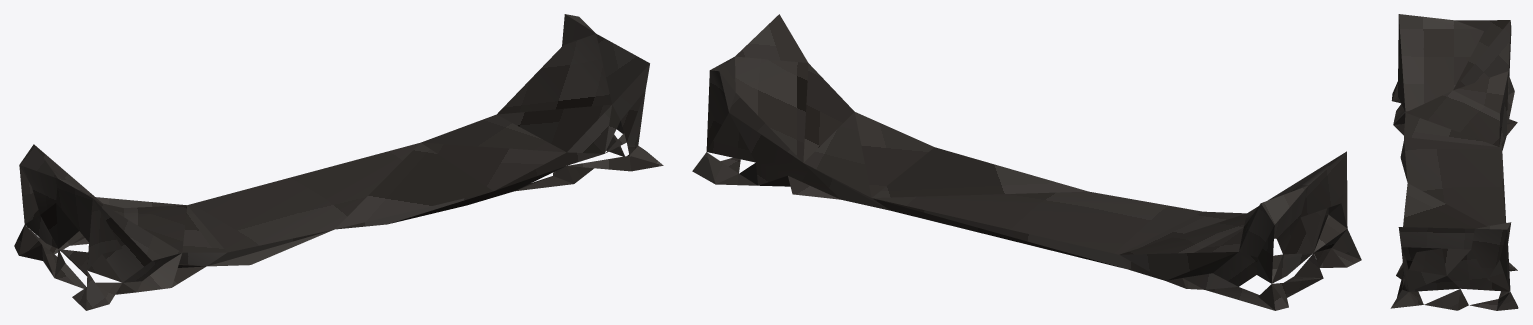
File: stunt-half-pipe.collision.glb
The picture shows the model from 3 angles, left to right: view 1: azimuth 30°, elevation 25°; view 2: azimuth 150°, elevation 25°; view 3: azimuth 270°, elevation 25°; orthographic projection. The views are drawn at different scales.
Visible parts, largest first — view 1: output_unwrapped; view 2: output_unwrapped; view 3: output_unwrapped.
Boxes of the visible parts, box(x1,y1,x2,y2) form: output_unwrapped: box(14, 14, 663, 310); output_unwrapped: box(692, 14, 1361, 310); output_unwrapped: box(1390, 14, 1518, 310).
Size of the model in its own units: 1.89 by 0.3429 by 0.4669.
1 material, 1 textured.
